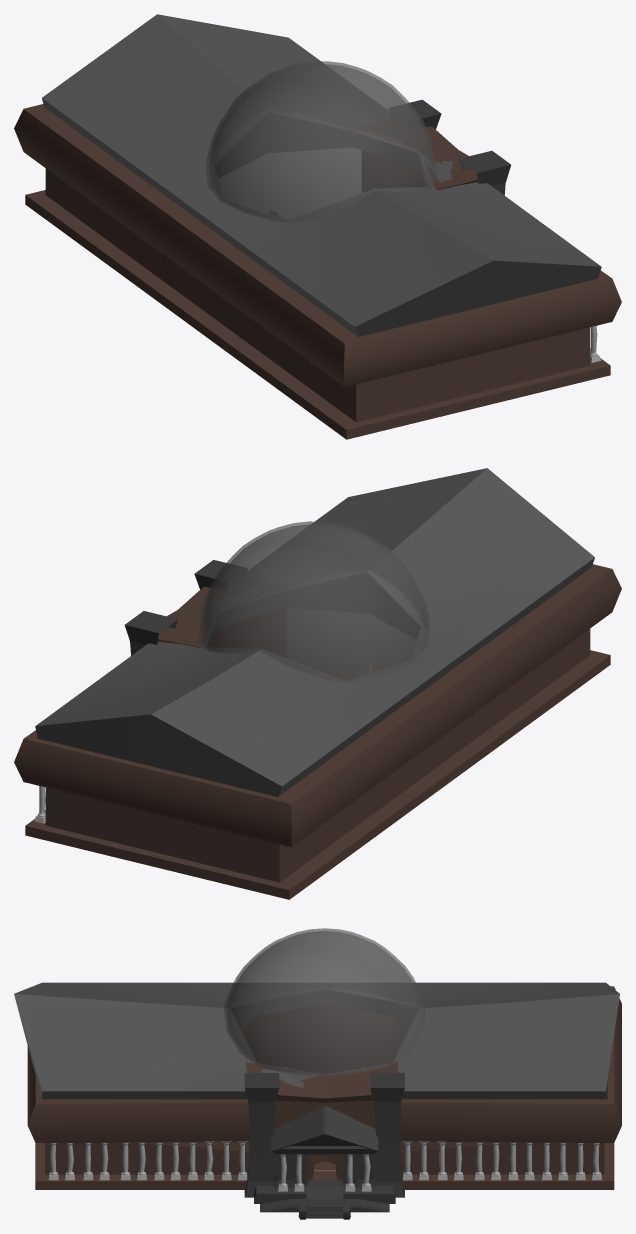
Rendered from DictatorBuilding.fbx.
3 views of the same model, one above another, from view 1: azimuth 30°, elevation 25°; view 2: azimuth 150°, elevation 25°; view 3: azimuth 270°, elevation 25° (orthographic). The views are drawn at different scales.
Parts seen in each view (by area): view 1: Roof, Mainbuilding, SkyLightDome, InteriourSeperatorWalls, CornerStones; view 2: Roof, Mainbuilding, SkyLightDome, InteriourSeperatorWalls, CornerStones; view 3: Roof, Mainbuilding, SkyLightDome, Pillars, CornerStones, EntranceRoof, EntranceWalkWay, EntranceRoofCornerStones, EntranceOpening.
Part boxes in pixels (<box>): Roof: <box>42,14,601,336</box>; Mainbuilding: <box>14,104,621,439</box>; SkyLightDome: <box>206,61,437,222</box>; InteriourSeperatorWalls: <box>218,147,361,219</box>; CornerStones: <box>407,99,510,195</box>; Roof: <box>35,468,594,796</box>; Mainbuilding: <box>14,564,621,899</box>; SkyLightDome: <box>199,521,429,683</box>; InteriourSeperatorWalls: <box>287,608,416,677</box>; CornerStones: <box>124,560,228,655</box>; Roof: <box>14,982,619,1099</box>; Mainbuilding: <box>27,986,621,1189</box>; SkyLightDome: <box>224,928,425,1076</box>; Pillars: <box>48,1141,601,1191</box>; CornerStones: <box>244,1073,404,1197</box>; EntranceRoof: <box>271,1106,378,1154</box>; EntranceWalkWay: <box>254,1184,395,1219</box>; EntranceRoofCornerStones: <box>274,1154,374,1187</box>; EntranceOpening: <box>293,1154,356,1185</box>.
Bounding box in the file's own units: 34.06 × 20.82 × 58.55.
